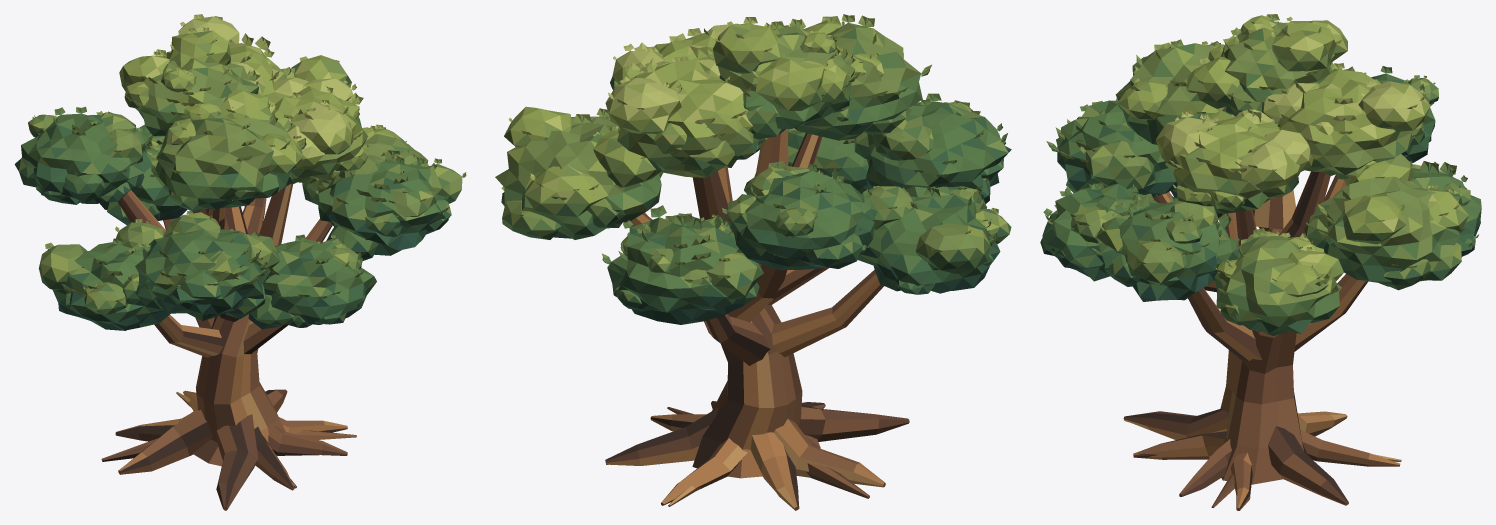
Rendered from timber-oak.glb.
3 views of the same model, side by side, from view 1: azimuth 30°, elevation 25°; view 2: azimuth 150°, elevation 25°; view 3: azimuth 270°, elevation 25° (orthographic). The views are drawn at different scales.
Visible parts, largest first — view 1: Crown.001, Trunk and roots.001, Leaves.001; view 2: Crown.001, Trunk and roots.001, Leaves.001; view 3: Crown.001, Trunk and roots.001, Leaves.001.
Part boxes in pixels (x1,y1,x2,y2): Crown.001: (14,16,462,330); Trunk and roots.001: (101,184,356,510); Leaves.001: (29,14,466,301); Crown.001: (495,20,1011,324); Trunk and roots.001: (605,129,909,510); Leaves.001: (501,14,1007,293); Crown.001: (1040,15,1481,336); Trunk and roots.001: (1123,171,1401,510); Leaves.001: (1043,14,1478,307).
Size of the model in its own units: 6.2 by 6.05 by 5.7.
